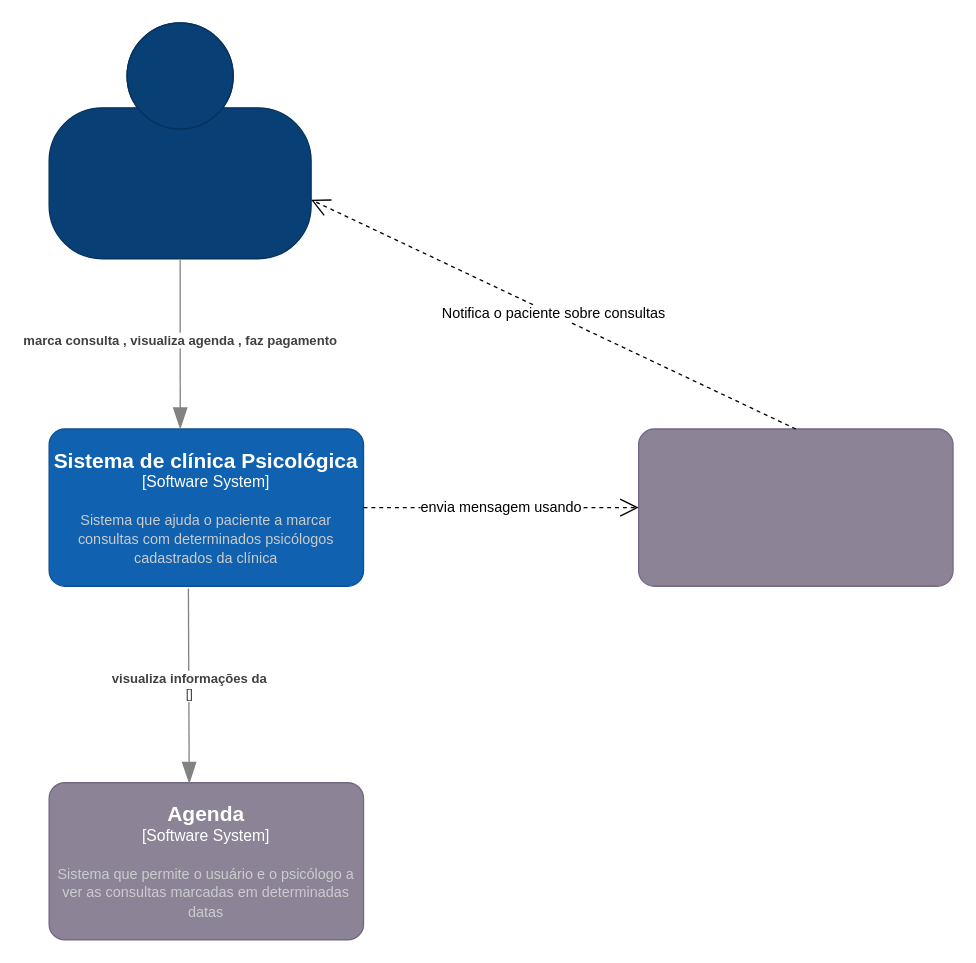
Image size: 976x963. Some labels were removed from this diagram. The shapes that lost their labels are listed below. From the top down, each one's box as (x1, y1, x2, y2) in pixels, then its label:
(48, 22, 311, 259): Paciente [Person] Paciente que busca atendimento psicológico na clínica
(637, 428, 953, 586): WhatsApp API. [Software System] API que envia mensagens pelo Whatsapp
